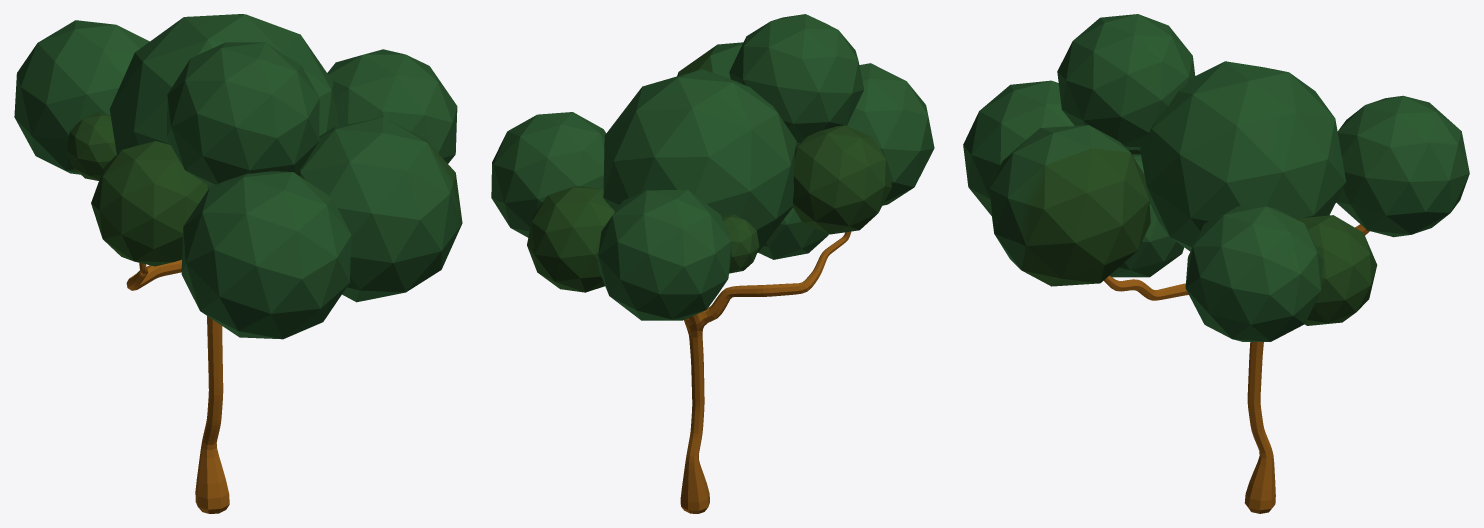
Rendered from TreewShadow_2a.fbx.
3 views of the same model, side by side, from view 1: azimuth 30°, elevation 25°; view 2: azimuth 150°, elevation 25°; view 3: azimuth 270°, elevation 25° (orthographic). The views are drawn at different scales.
Visible parts, largest first — view 1: Plane; view 2: Plane; view 3: Plane.
Part boxes in pixels (x1,y1,x2,y2): Plane: (14,14,462,513); Plane: (491,14,934,513); Plane: (963,14,1469,513).
Size of the model in its own units: 413 by 523 by 510.
